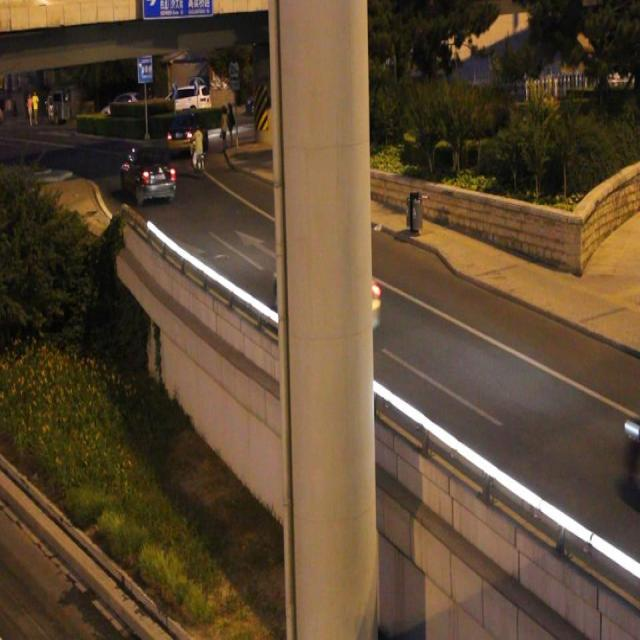car: (272, 239, 380, 332), (120, 142, 177, 203), (621, 401, 640, 496)
